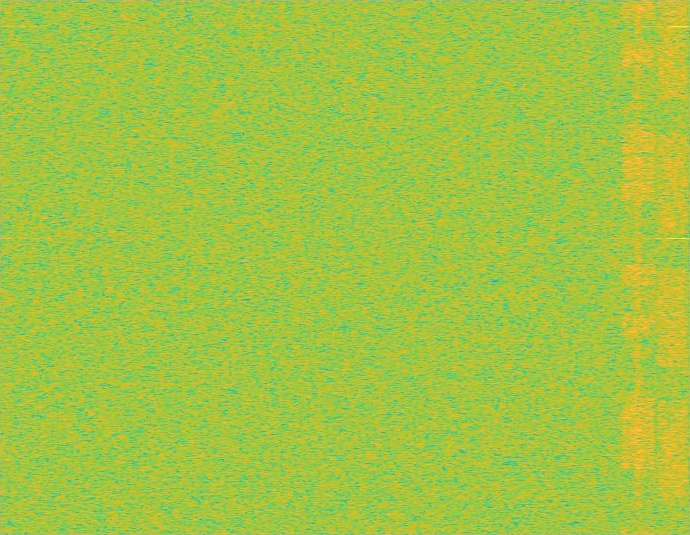5G: (656, 0, 689, 534)
DSSS: (634, 0, 642, 534)
LTE: (621, 0, 656, 534)
Radar: (671, 0, 685, 534)
